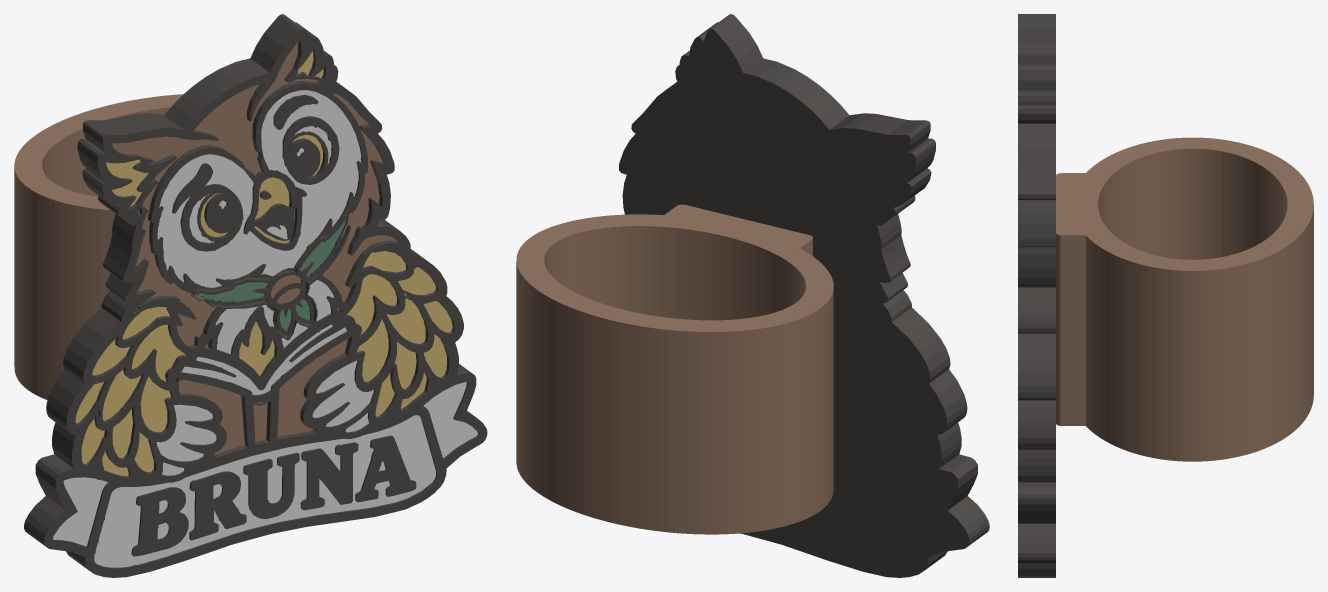
Rendered from anilha-coruja-bruna-v6-montada.glb.
The picture shows the model from 3 angles, left to right: view 1: azimuth 30°, elevation 25°; view 2: azimuth 150°, elevation 25°; view 3: azimuth 270°, elevation 25°; orthographic projection. The views are drawn at different scales.
Visible parts, largest first — view 1: preto, creme, anilha-castanha, dourado, castanho, lenco-preto, lenco-verde, no-castanho; view 2: anilha-castanha, preto; view 3: anilha-castanha, preto.
Boxes of the visible parts, left/top/right/bottom form: preto: left=24, top=14, right=487, bottom=577; creme: left=53, top=90, right=477, bottom=567; anilha-castanha: left=14, top=94, right=183, bottom=399; dourado: left=75, top=51, right=452, bottom=476; castanho: left=97, top=42, right=407, bottom=454; lenco-preto: left=191, top=214, right=348, bottom=335; lenco-verde: left=198, top=219, right=346, bottom=331; no-castanho: left=191, top=216, right=349, bottom=303; anilha-castanha: left=516, top=204, right=833, bottom=534; preto: left=619, top=14, right=989, bottom=577; anilha-castanha: left=1056, top=137, right=1313, bottom=461; preto: left=1018, top=14, right=1055, bottom=577.
Size of the model in its own units: 45.82 by 49.96 by 28.1.
